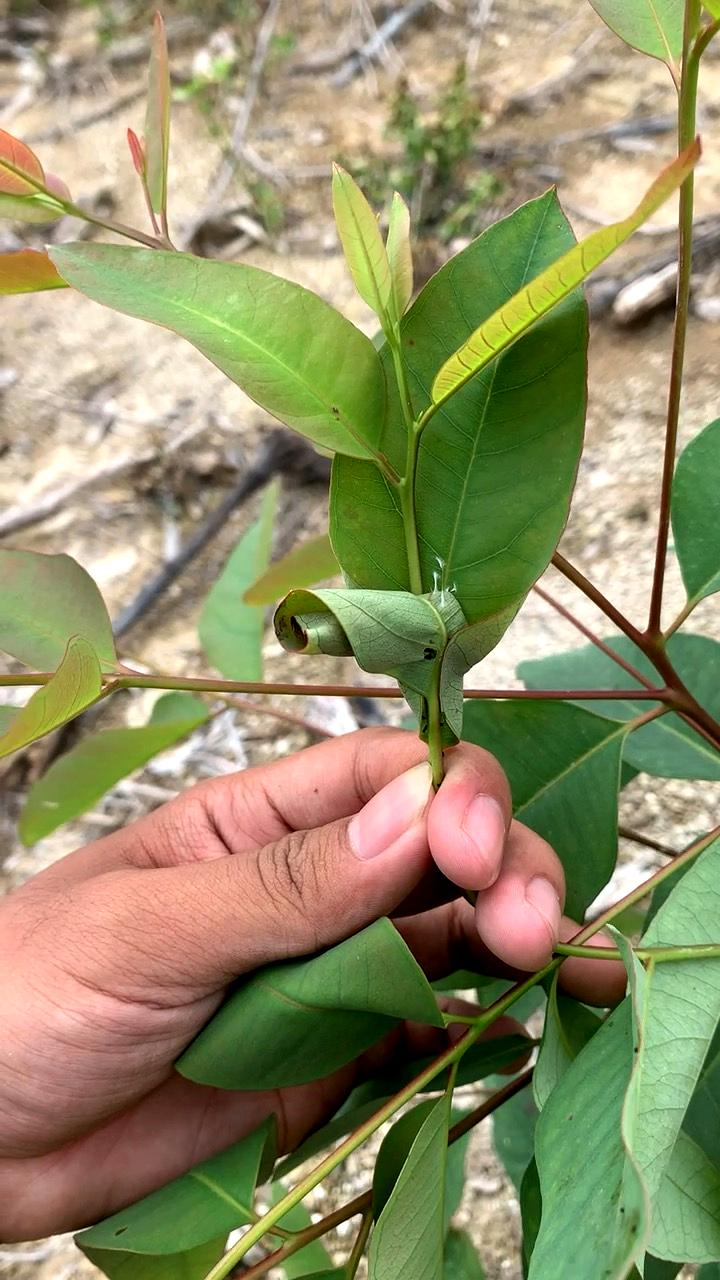Leaf Roller - Leaf: (263, 573, 505, 688)
